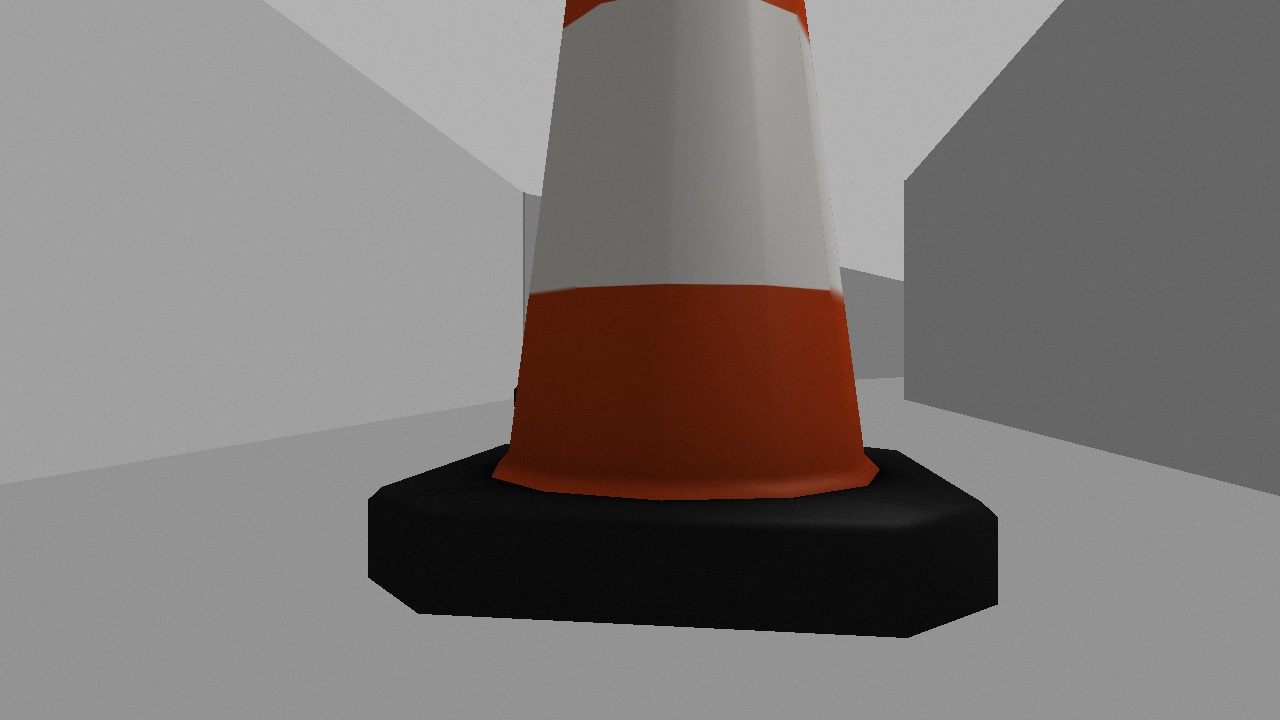barricade: (369, 1, 997, 638)
